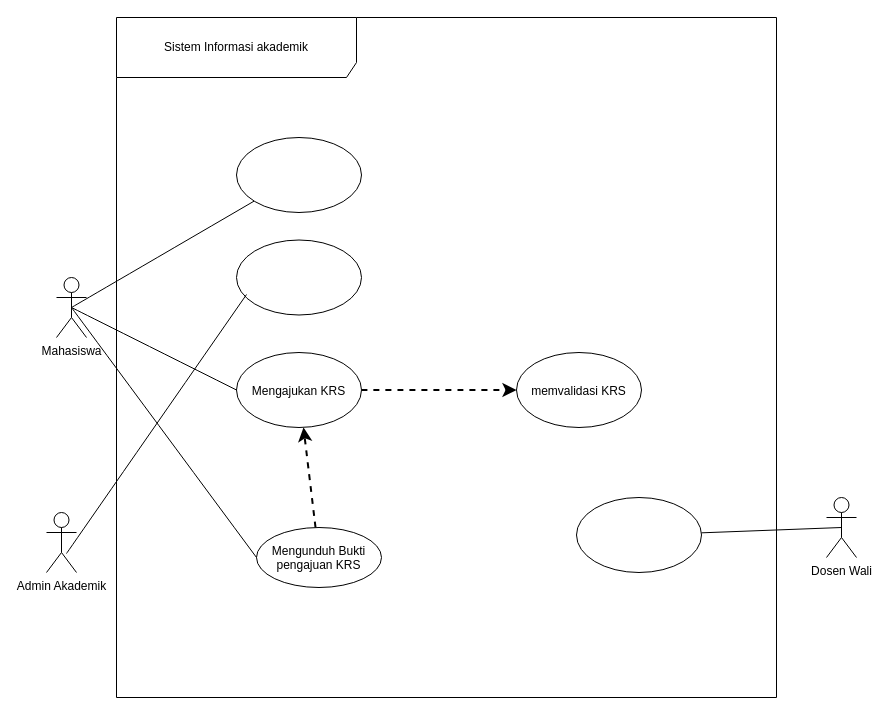
Some shapes in this 889 by 715 pixel diagram are drawn without their labels. The centre of each missing label's shape, as x and y in pixels:
"Melihat Jadwal Kuliah" goes at point 299,174.
"Memproses Persetujuan / Penolakan KRS" goes at point 639,534.
"Mengelola Jadwal Kuliah" goes at point 299,277.
